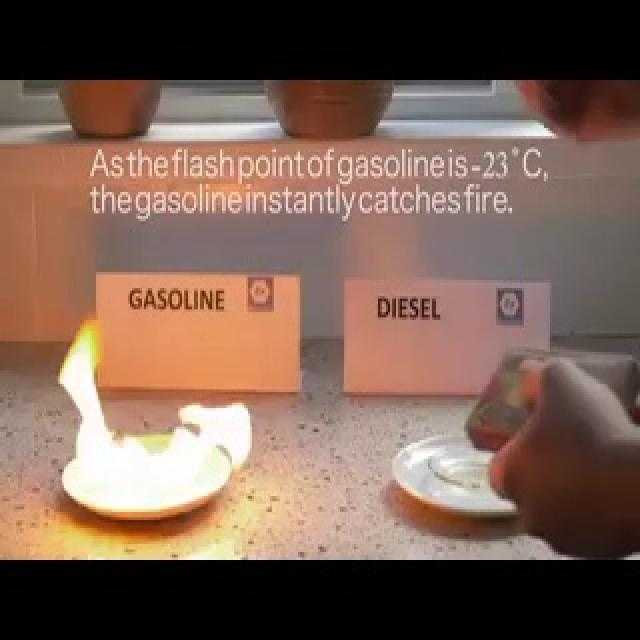fire: (51, 311, 255, 512)
